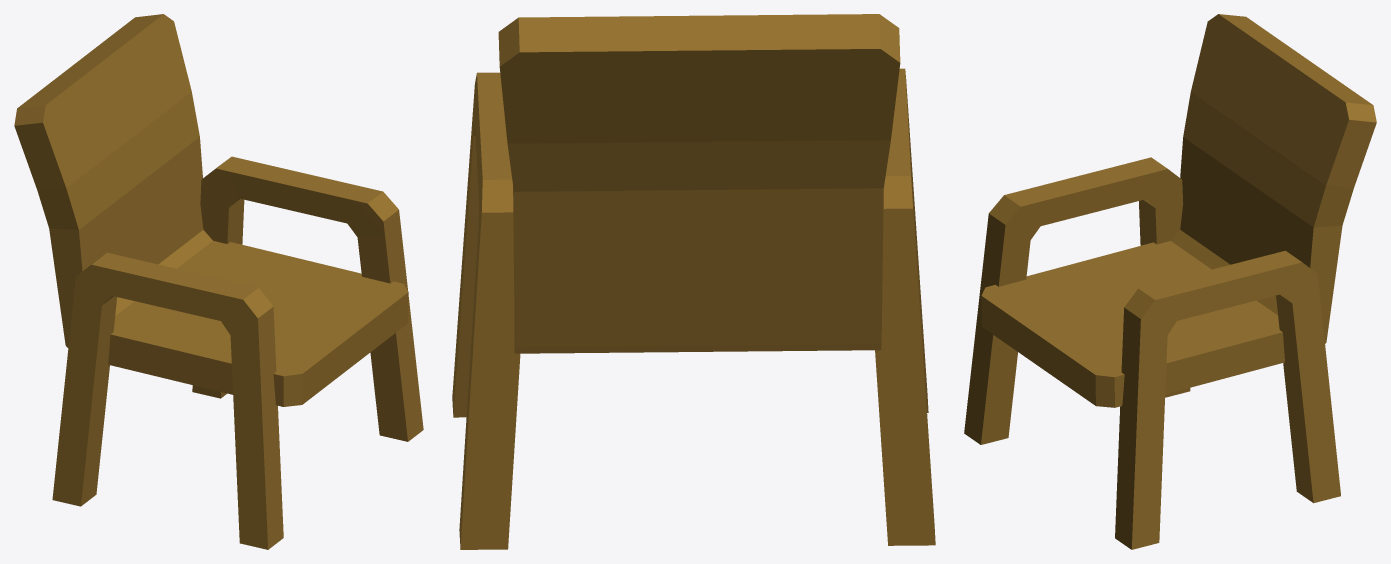
Rendered from augur chair .fbx.
3 views of the same model, side by side, from view 1: azimuth 30°, elevation 25°; view 2: azimuth 150°, elevation 25°; view 3: azimuth 270°, elevation 25° (orthographic). The views are drawn at different scales.
Visible parts, largest first — view 1: augur chair; view 2: augur chair; view 3: augur chair.
Boxes of the visible parts, x1,y1,x2,y2 form: augur chair: (14, 14, 423, 549); augur chair: (452, 14, 935, 549); augur chair: (964, 14, 1376, 549).
Size of the model in its own units: 127 by 127 by 128.
